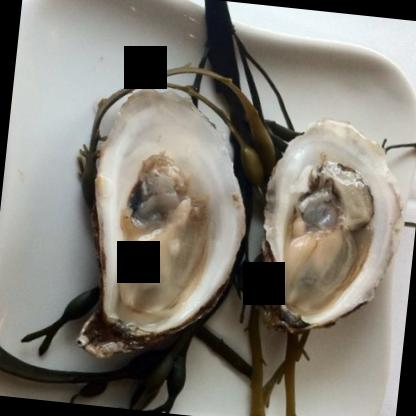oyster: (62, 78, 258, 364), (247, 114, 410, 334)
